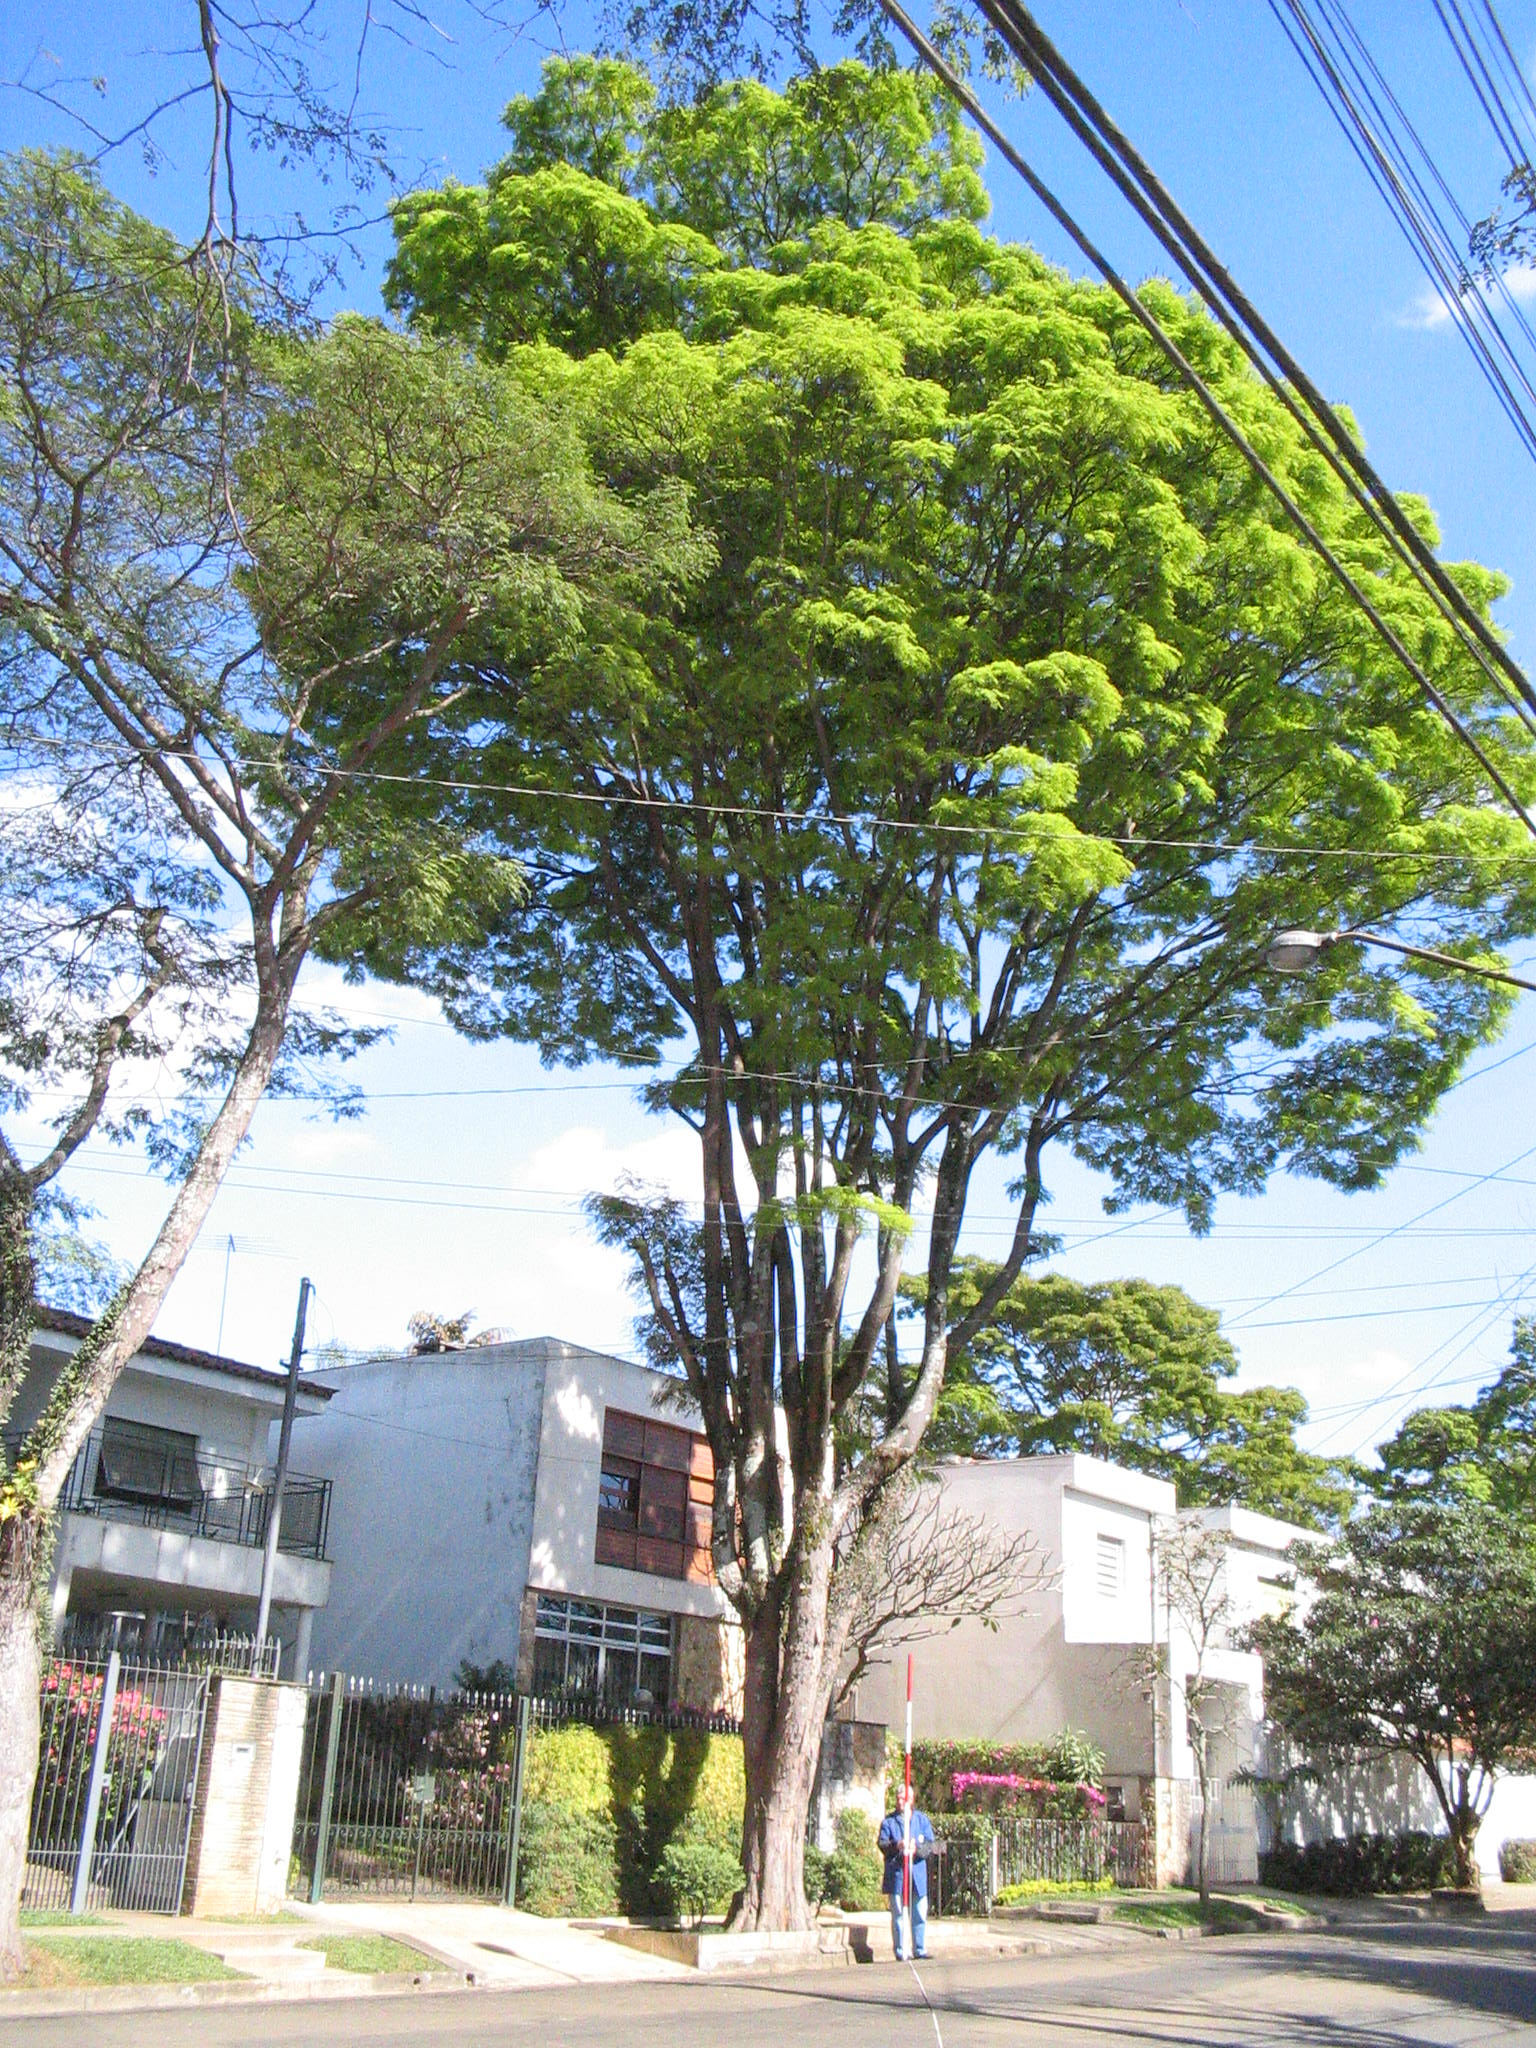crown: (273, 68, 1521, 1258), (1257, 1495, 1525, 1787)
stem: (695, 1734, 854, 1925)
stick: (871, 1646, 941, 1959)
tree: (265, 63, 1530, 1929), (3, 142, 694, 1975), (1250, 1490, 1530, 1890)
